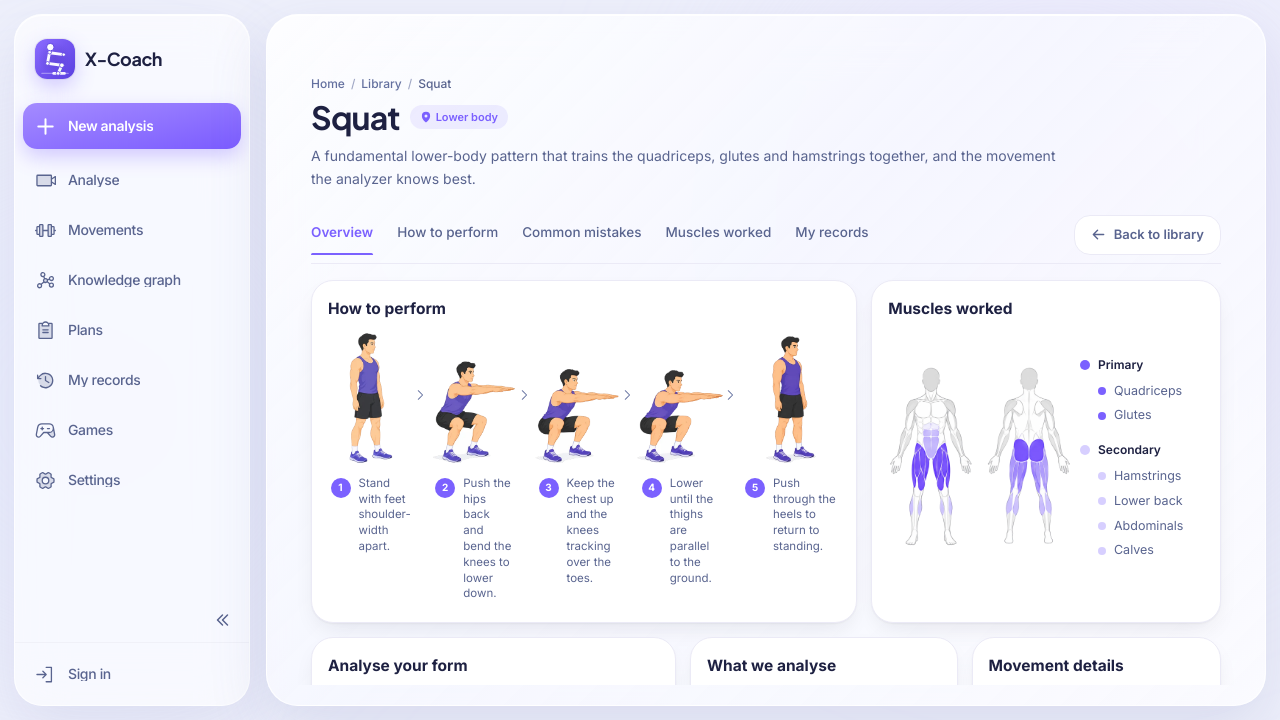
Test: MovementDetail — common mistakes › keeps each fault's paper collapsed until the card is opened
What coordinates should you click on to do the following:
click the tab "Common mistakes"
I would click on:
 (582, 239)
Its box is [522, 222, 642, 255].
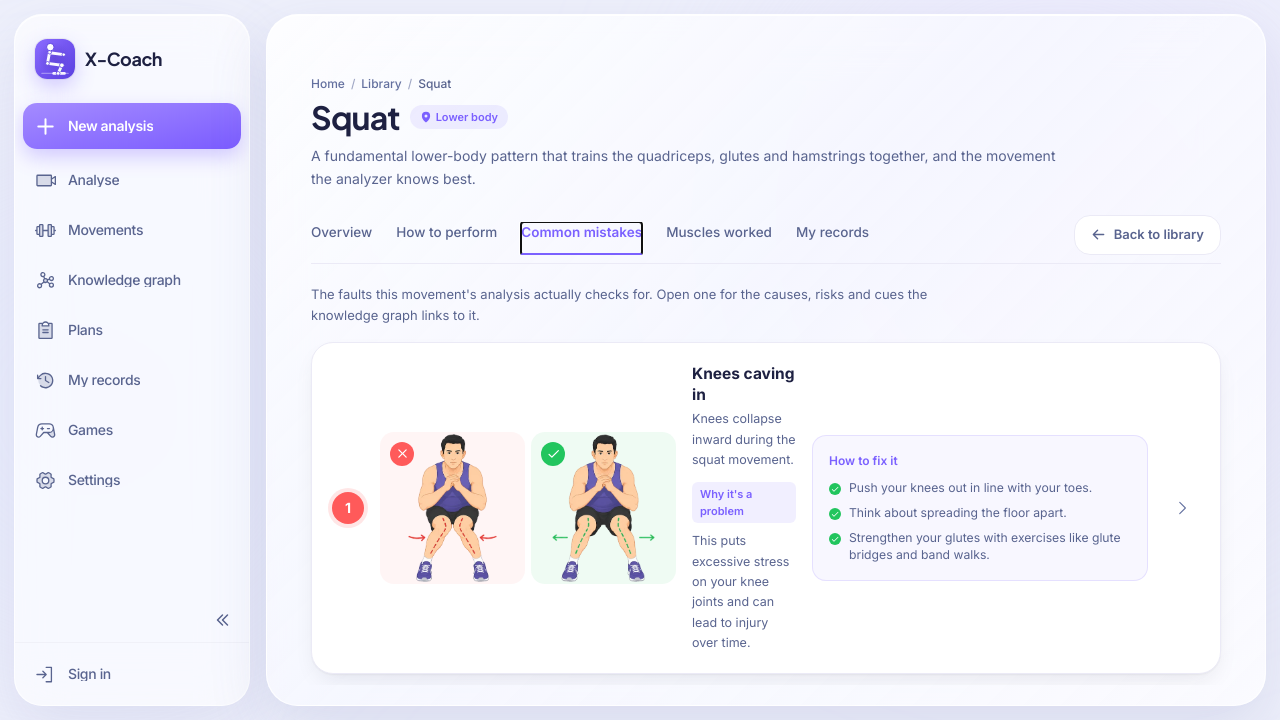
Expected: the heading "Knees caving in" is shown, [692, 363, 796, 405]
The same paper squat.py's rule cites, which is what the studio shows when it detects this.
What coordinates should you click on to do the following:
click the button named "Knees caving in"
I would click on:
 (1182, 508)
Its box is [1164, 490, 1200, 526].
(page scrolled)
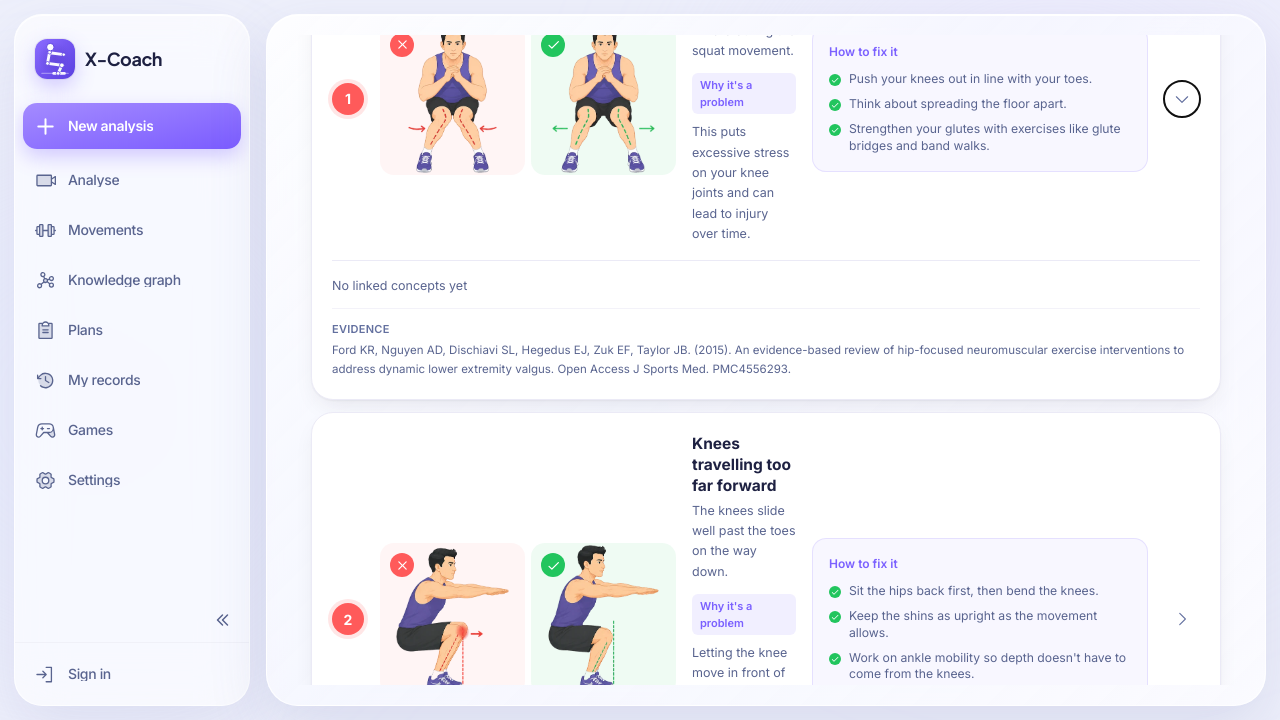
Expected: the text "Evidence" is shown, [332, 322, 390, 336]
Expected: the text with test id "mistake-citation" shows "Ford KR", [332, 343, 1184, 376]
